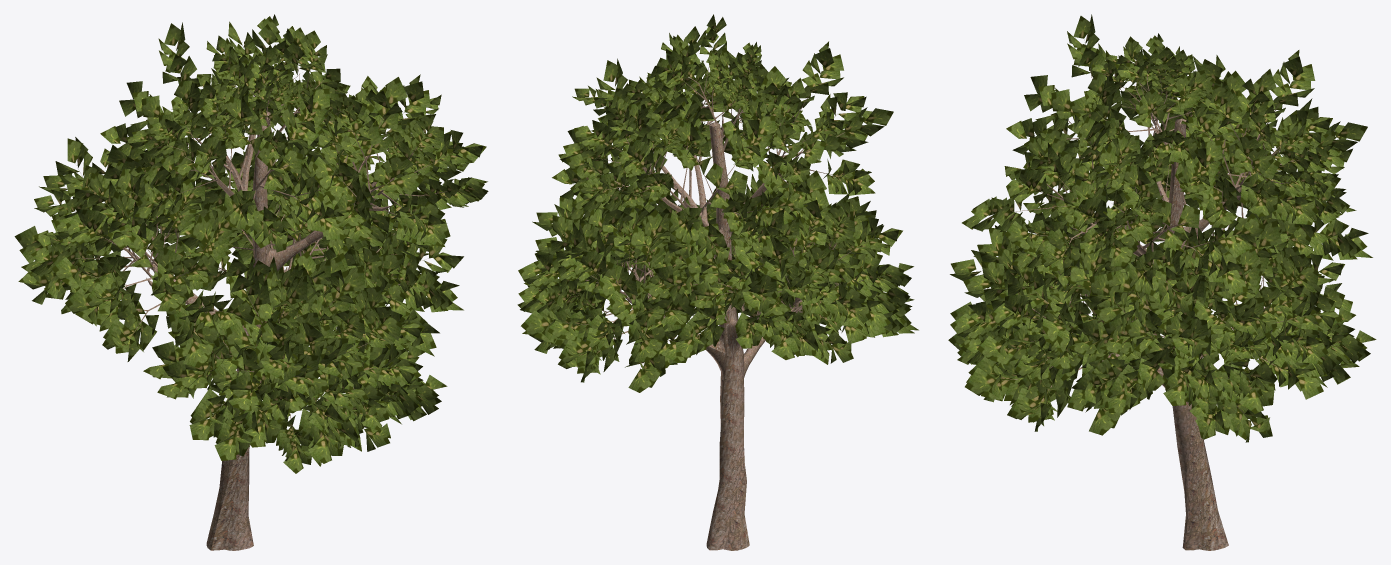
The model's file is SM_Tree_02.fbx.
3 renders of one model, left to right at view 1: azimuth 30°, elevation 25°; view 2: azimuth 150°, elevation 25°; view 3: azimuth 270°, elevation 25°, orthographic. The views are drawn at different scales.
Parts seen in each view (by area): view 1: SM_Tree_02_LOD0; view 2: SM_Tree_02_LOD0; view 3: SM_Tree_02_LOD0.
Boxes of the visible parts, box(x1,y1,x2,y2) form: SM_Tree_02_LOD0: box(14, 14, 488, 550); SM_Tree_02_LOD0: box(517, 14, 918, 550); SM_Tree_02_LOD0: box(948, 14, 1376, 550).
Bounding box in the file's own units: 824 × 773 × 1050.
2 materials, 2 textured.
